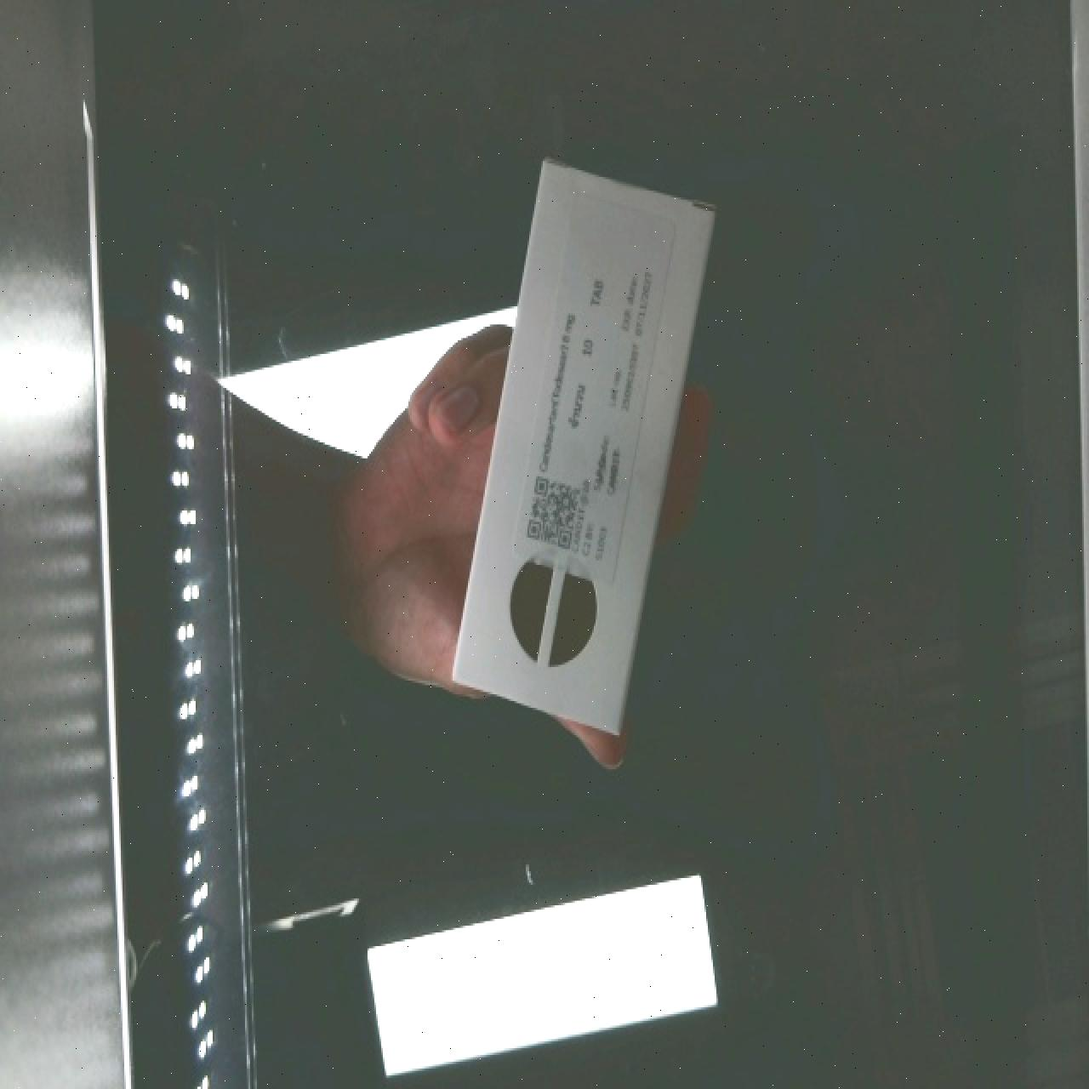qr_code: (514, 459, 596, 565)
